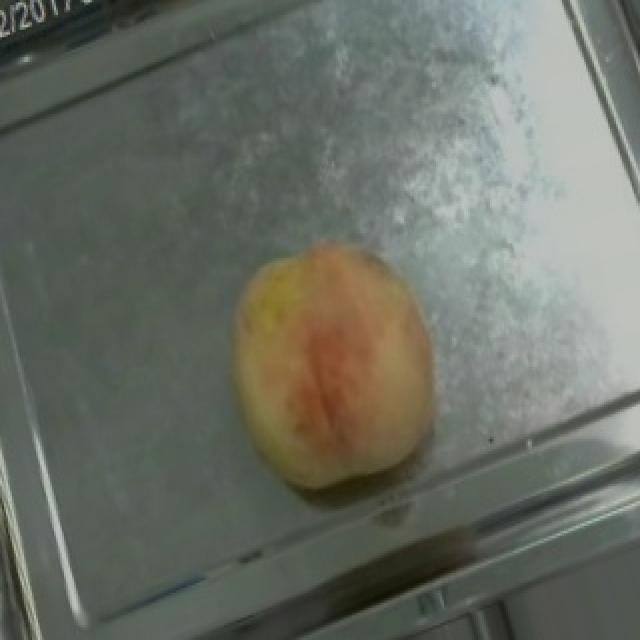Fruit: (184, 208, 488, 531)
